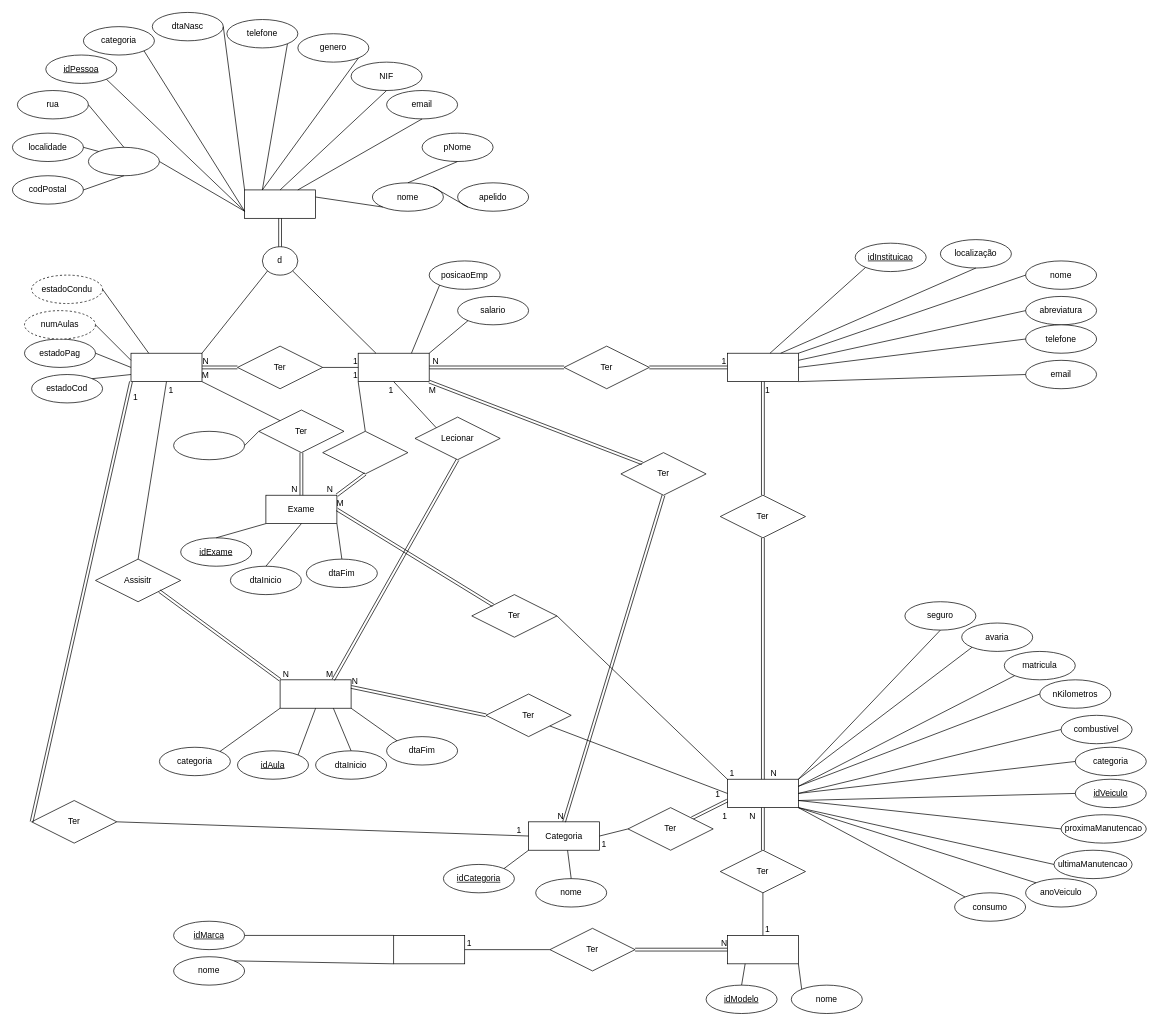
This 1159x1026 diagram has some shape labels left out. Here are the shapes that lost their labels. From the top down, the centre of each, then its label:
At [123,161]: "morada".
At [280,203]: "Pessoa".
At [166,367]: "Aluno".
At [393,367]: "Instrutor".
At [762,367]: "Instituição".
At [209,445]: "estadoCond".
At [365,452]: "Acompanhar".
At [315,693]: "Aula".
At [762,793]: "Veiculo".
At [429,949]: "Marca".
At [762,949]: "Modelo".
